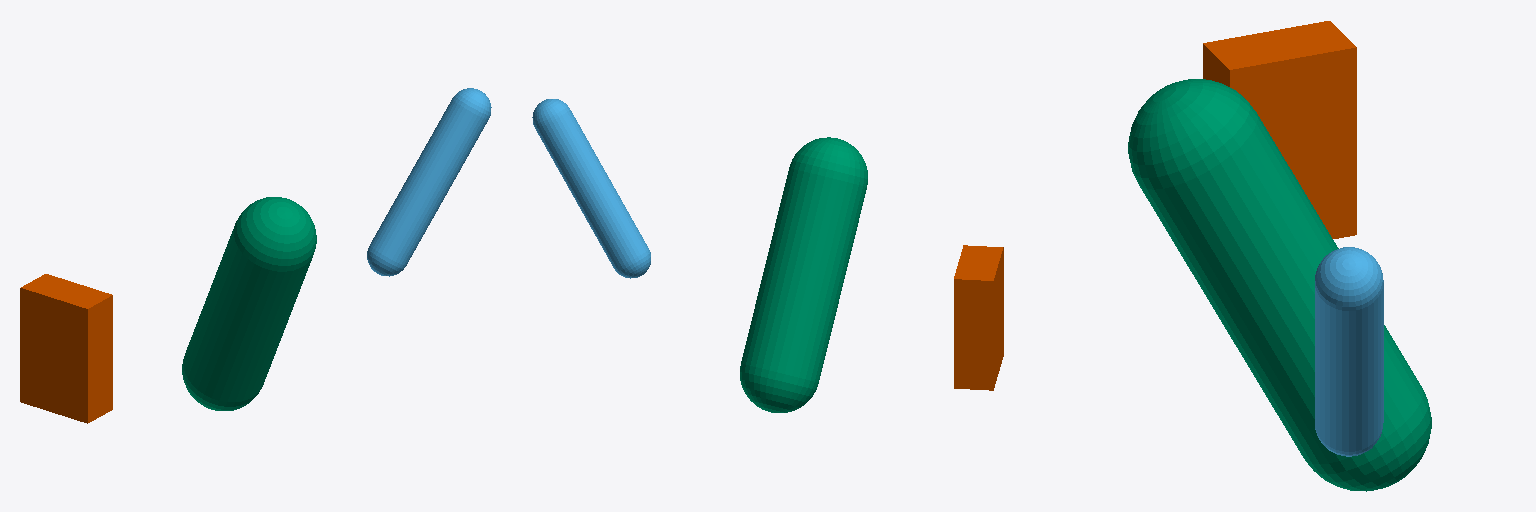
The robot description file, URDF, robot "export cases":
<?xml version="1.0"?>
<robot name="export cases" xmlns:xacro="http://ros.org/wiki/xacro">
  <link name="base_link">
  </link>
  <link name="capsule in a pose">
    <visual>
      <origin xyz="0.01 0.02 0.03" rpy="0 0.6 0"/>
      <geometry>
        <cylinder radius="0.01" length="0.08"/>
      </geometry>
    </visual>
    <collision>
      <origin xyz="0.01 0.02 0.03" rpy="0 0.6 0"/>
      <geometry>
        <cylinder radius="0.01" length="0.08"/>
      </geometry>
    </collision>
    <visual>
      <origin xyz="0.032586 0.02 0.063013" rpy="0 0.6 0"/>
      <geometry>
        <sphere radius="0.01"/>
      </geometry>
    </visual>
    <collision>
      <origin xyz="0.032586 0.02 0.063013" rpy="0 0.6 0"/>
      <geometry>
        <sphere radius="0.01"/>
      </geometry>
    </collision>
    <visual>
      <origin xyz="-0.012586 0.02 -0.003013" rpy="0 0.6 0"/>
      <geometry>
        <sphere radius="0.01"/>
      </geometry>
    </visual>
    <collision>
      <origin xyz="-0.012586 0.02 -0.003013" rpy="0 0.6 0"/>
      <geometry>
        <sphere radius="0.01"/>
      </geometry>
    </collision>
  </link>
  <joint name="base_link_capsule in a pose_joint" type="fixed">
    <parent link="base_link"/>
    <child link="capsule in a pose"/>
    <origin xyz="0.3 0 0" rpy="0 0 0"/>
  </joint>
  <link name="capsule bounding object">
    <visual>
      <geometry>
        <cylinder radius="0.02" length="0.1"/>
      </geometry>
    </visual>
    <collision>
      <geometry>
        <cylinder radius="0.02" length="0.1"/>
      </geometry>
    </collision>
    <visual>
      <origin xyz="0 0 0.05" rpy="0 0 0"/>
      <geometry>
        <sphere radius="0.02"/>
      </geometry>
    </visual>
    <collision>
      <origin xyz="0 0 0.05" rpy="0 0 0"/>
      <geometry>
        <sphere radius="0.02"/>
      </geometry>
    </collision>
    <visual>
      <origin xyz="0 0 -0.05" rpy="0 0 0"/>
      <geometry>
        <sphere radius="0.02"/>
      </geometry>
    </visual>
    <collision>
      <origin xyz="0 0 -0.05" rpy="0 0 0"/>
      <geometry>
        <sphere radius="0.02"/>
      </geometry>
    </collision>
  </link>
  <joint name="base_link_capsule bounding object_joint" type="fixed">
    <parent link="base_link"/>
    <child link="capsule bounding object"/>
    <origin xyz="0.2 0 0" rpy="0.5 0 0"/>
  </joint>
  <link name="hinge target">
  </link>
  <joint name="base_link_hinge target_joint" type="fixed">
    <parent link="base_link"/>
    <child link="hinge target"/>
    <origin xyz="0 -0.1 0" rpy="0 0 0"/>
  </joint>
  <link name="slider target">
  </link>
  <joint name="base_link_slider target_joint" type="fixed">
    <parent link="base_link"/>
    <child link="slider target"/>
    <origin xyz="0 0.1 0" rpy="0 0 0"/>
  </joint>
  <link name="primitive bounding object">
    <visual>
      <geometry>
        <box size="0.02 0.04 0.06"/>
      </geometry>
    </visual>
    <collision>
      <geometry>
        <box size="0.02 0.04 0.06"/>
      </geometry>
    </collision>
  </link>
  <joint name="base_link_primitive bounding object_joint" type="fixed">
    <parent link="base_link"/>
    <child link="primitive bounding object"/>
    <origin xyz="0.1 0 0" rpy="0 0 0.4"/>
  </joint>
  <link name="tilted camera">
  </link>
  <joint name="base_link_tilted camera_joint" type="fixed">
    <parent link="base_link"/>
    <child link="tilted camera"/>
    <origin xyz="0.05 0.01 0.1" rpy="-2.111674 0.231394 -1.494436"/>
  </joint>
  <link name="ts_emitter">
  </link>
  <joint name="base_link_ts_emitter_joint" type="fixed">
    <parent link="base_link"/>
    <child link="ts_emitter"/>
    <origin xyz="0 0 0" rpy="0 0 0"/>
  </joint>
</robot>

--- Render facts (derived) ---
3 views of the same robot in one strip: view 1: azimuth 30°, elevation 25°; view 2: azimuth 150°, elevation 25°; view 3: azimuth 270°, elevation 25° (orthographic).
Model export cases with 8 links and 7 joints (7 fixed), rooted at base_link, posed every joint at zero.
Visible links, largest first — view 1: capsule bounding object, primitive bounding object, capsule in a pose; view 2: capsule bounding object, capsule in a pose, primitive bounding object; view 3: capsule bounding object, primitive bounding object, capsule in a pose.
Boxes of the visible links, x1,y1,x2,y2 form: capsule bounding object: [182, 197, 316, 410]; primitive bounding object: [20, 274, 112, 423]; capsule in a pose: [367, 88, 491, 276]; capsule bounding object: [740, 137, 867, 412]; capsule in a pose: [532, 99, 650, 278]; primitive bounding object: [954, 245, 1003, 390]; capsule bounding object: [1128, 79, 1431, 491]; primitive bounding object: [1203, 21, 1356, 238]; capsule in a pose: [1315, 247, 1383, 456].
Size in the robot's own frame: 0.2596 by 0.0878 by 0.1368 metres.
Geometry: primitives only (box / cylinder / sphere), no mesh files.
